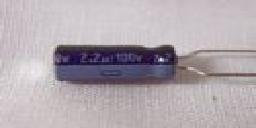Electrolytic-Capacitor: (48, 40, 256, 90)
